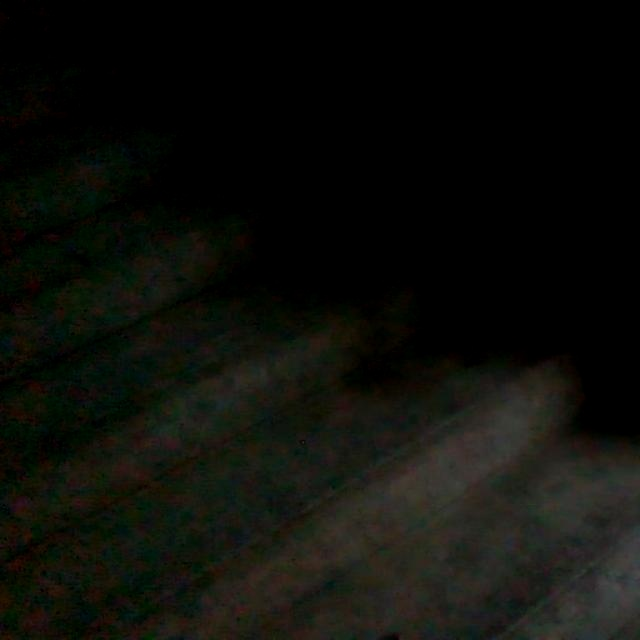stair: (0, 15, 629, 618)
